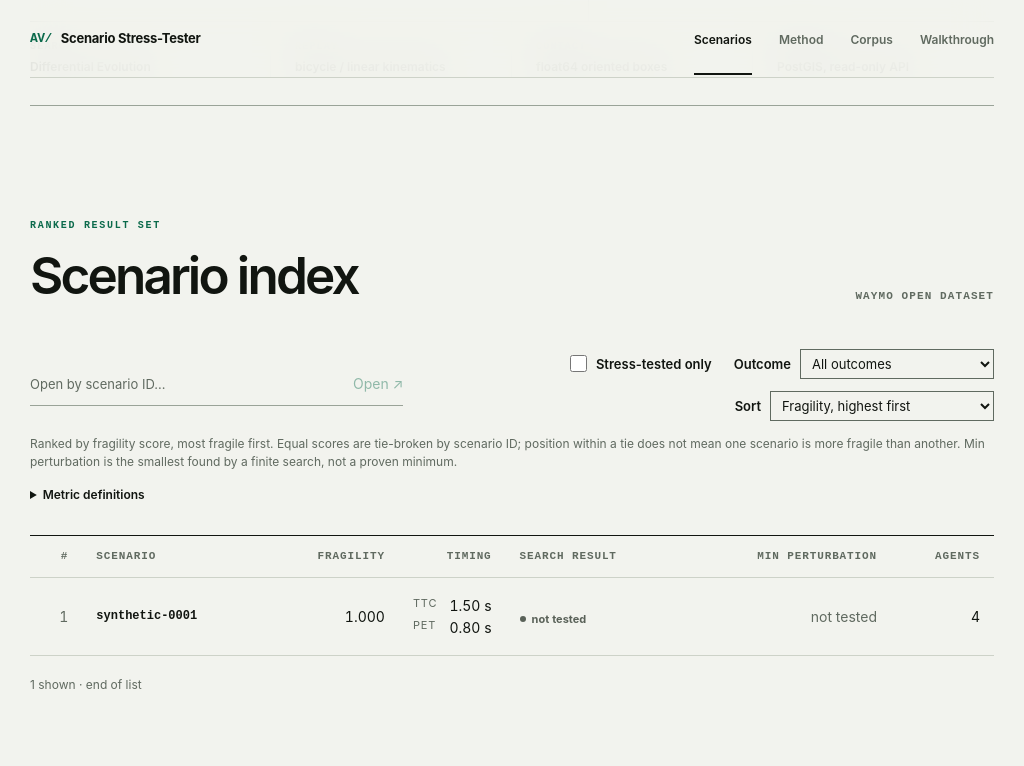
Test: open by scenario ID › trims the ID before opening it
(page scrolled)
Type "   abc123  " into the search field labelled "Open by scenario ID" at (182, 384), box [30,363,335,405]
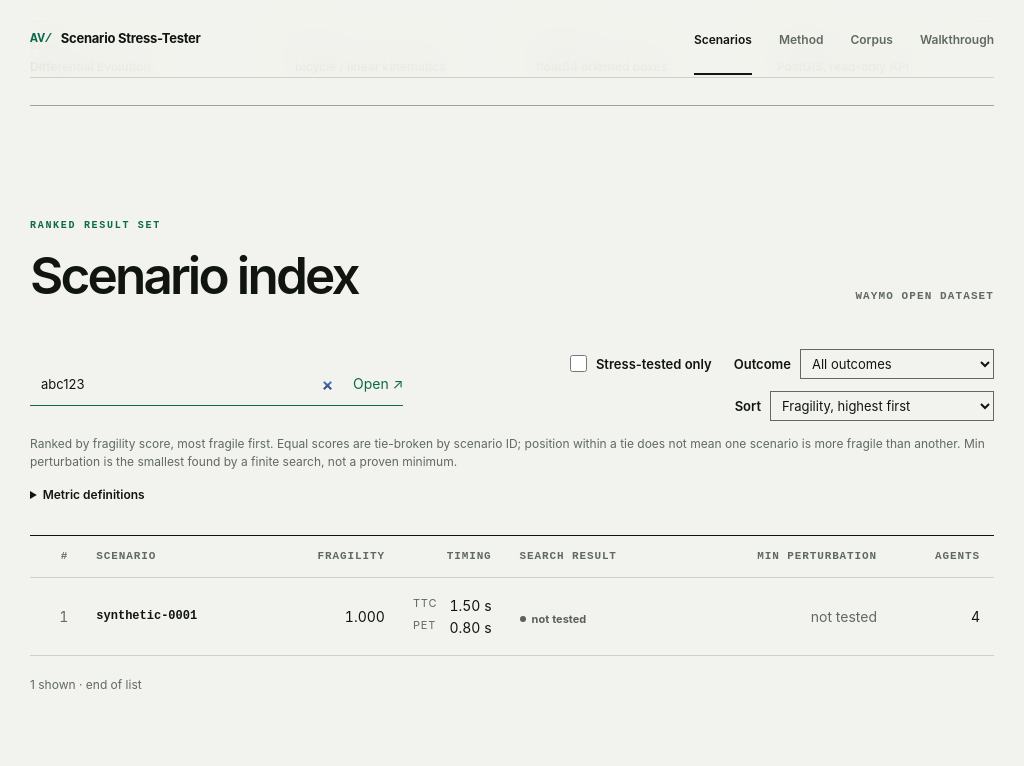
Click the button "Open ↗" at (369, 384), box [335,363,403,405]
(page scrolled)
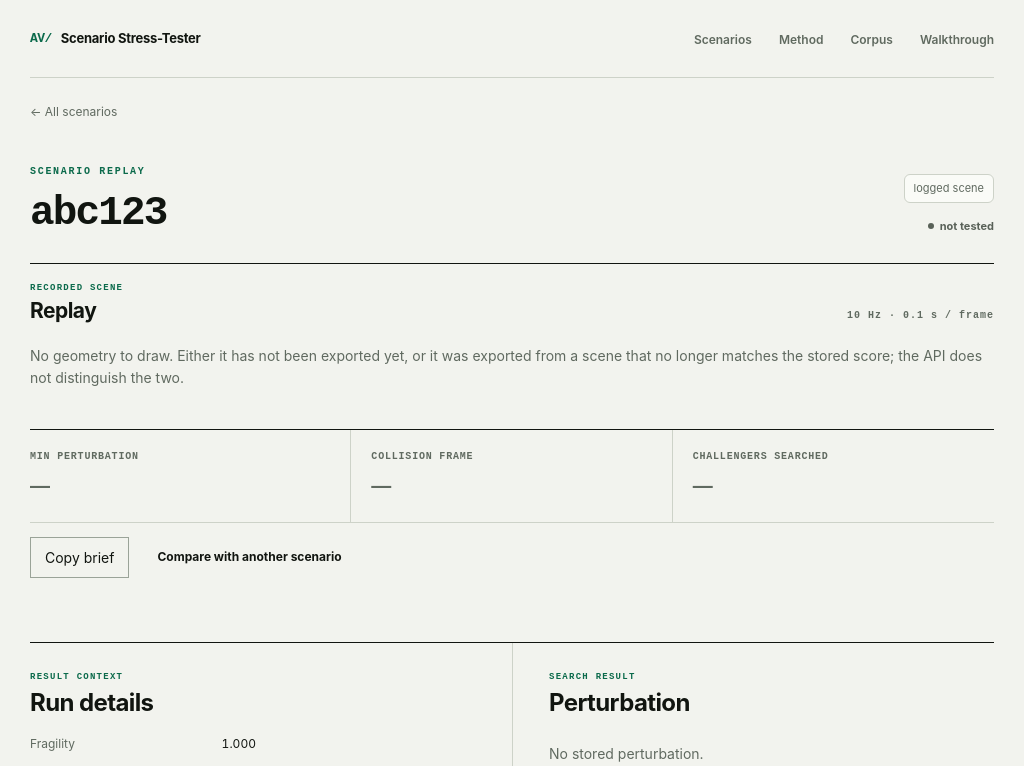
Expected: the heading "abc123" is shown, [30,192,166,235]
